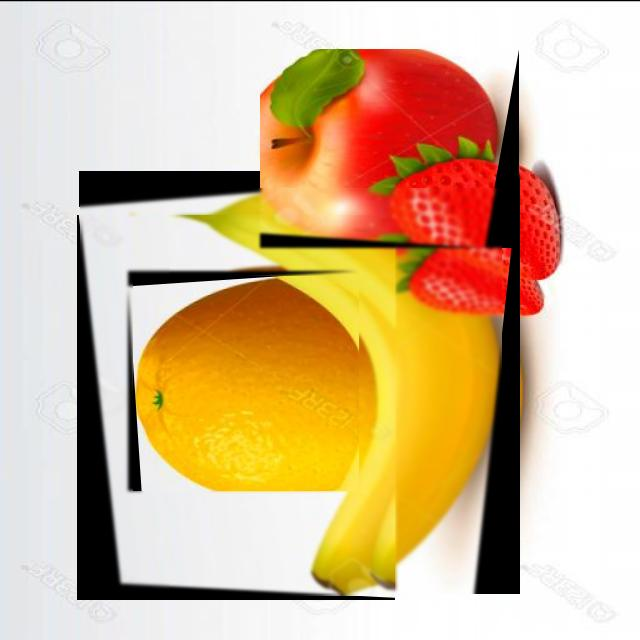Apple: (260, 49, 505, 242)
Banana: (80, 188, 501, 594), (169, 215, 395, 596), (113, 215, 116, 215)
Orange: (133, 276, 358, 491)
